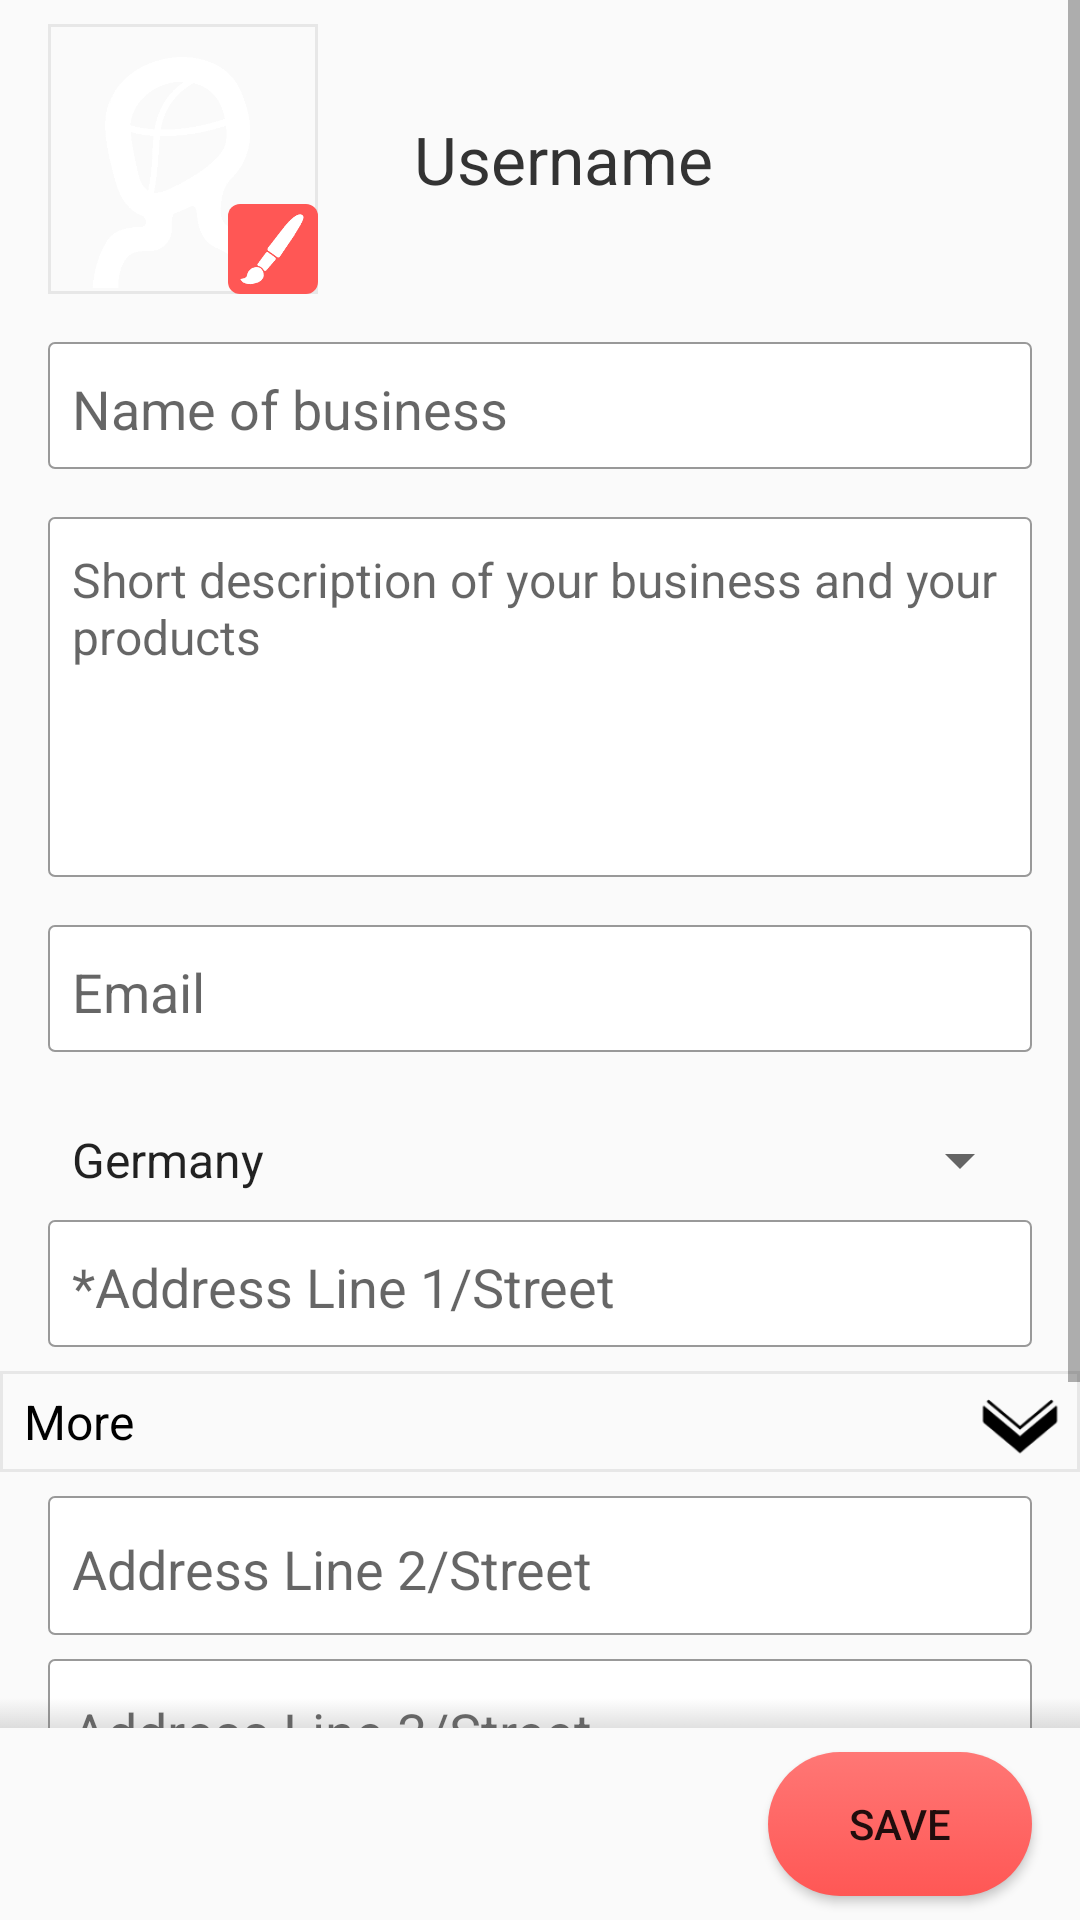

Where to tap for icons on this 1080px×1920px app screen, as [x,y]:
arrow down: [1020,1426]
